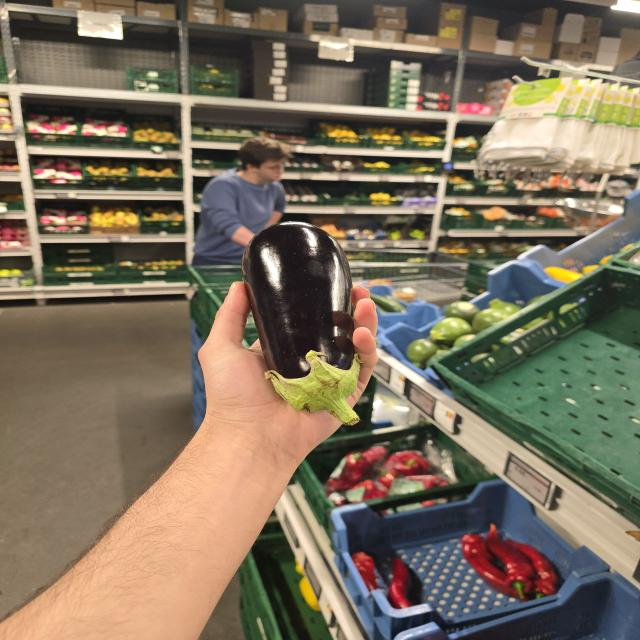Eggplant: (243, 222, 360, 425)
